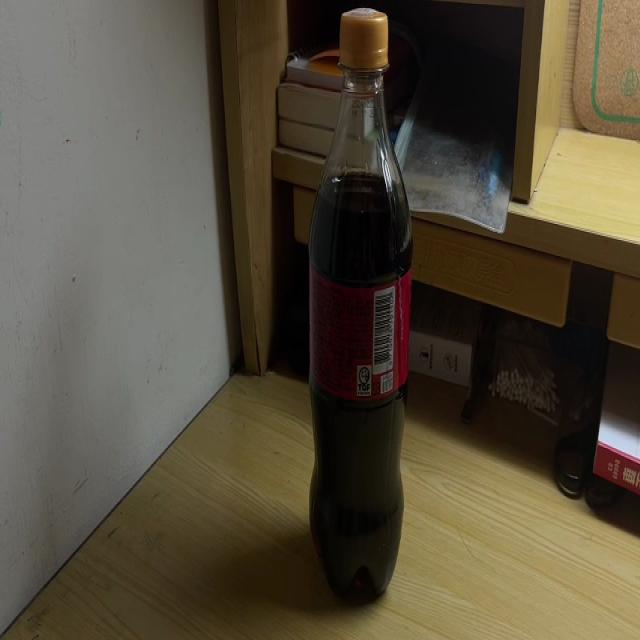Coca-Cola: (308, 6, 410, 603)
